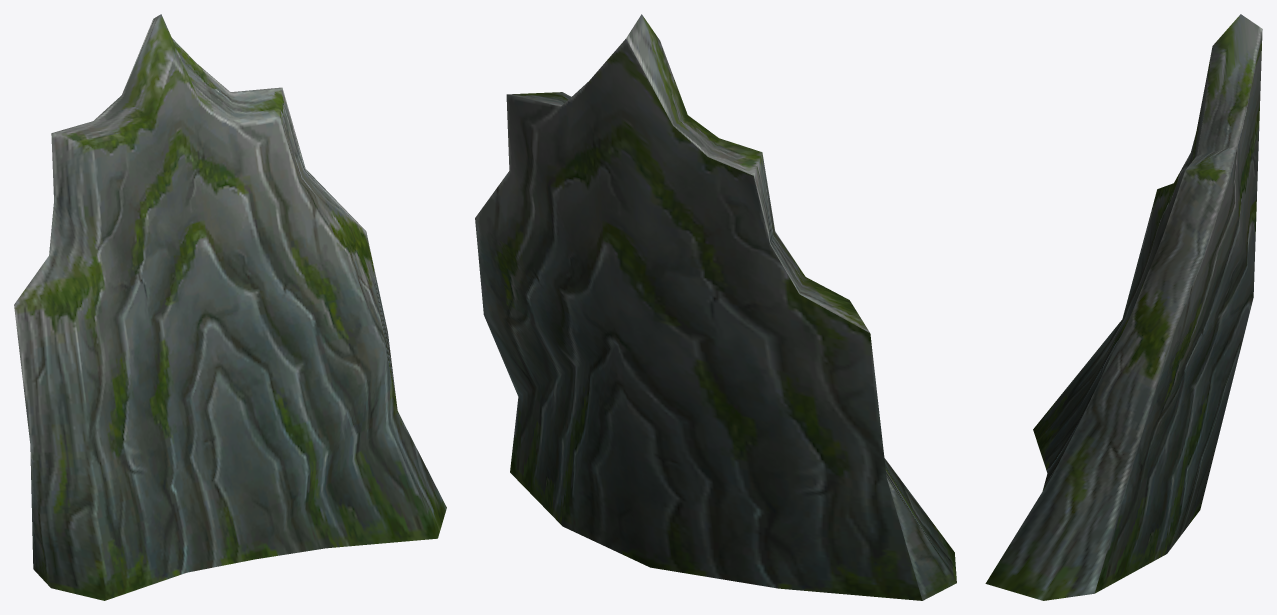
The model's file is environment_stone_yewaishibi_001_a.FBX.
3 views of the same model, side by side, from view 1: azimuth 30°, elevation 25°; view 2: azimuth 150°, elevation 25°; view 3: azimuth 270°, elevation 25° (orthographic). The views are drawn at different scales.
Parts seen in each view (by area): view 1: environment_stone_yewaishibi_001_a; view 2: environment_stone_yewaishibi_001_a; view 3: environment_stone_yewaishibi_001_a.
Part boxes in pixels (left/top/right/bottom): environment_stone_yewaishibi_001_a: left=14, top=14, right=446, bottom=600; environment_stone_yewaishibi_001_a: left=475, top=14, right=956, bottom=600; environment_stone_yewaishibi_001_a: left=985, top=14, right=1262, bottom=600.
Bounding box in the file's own units: 149 × 181 × 91.71.
1 material, 1 textured.
